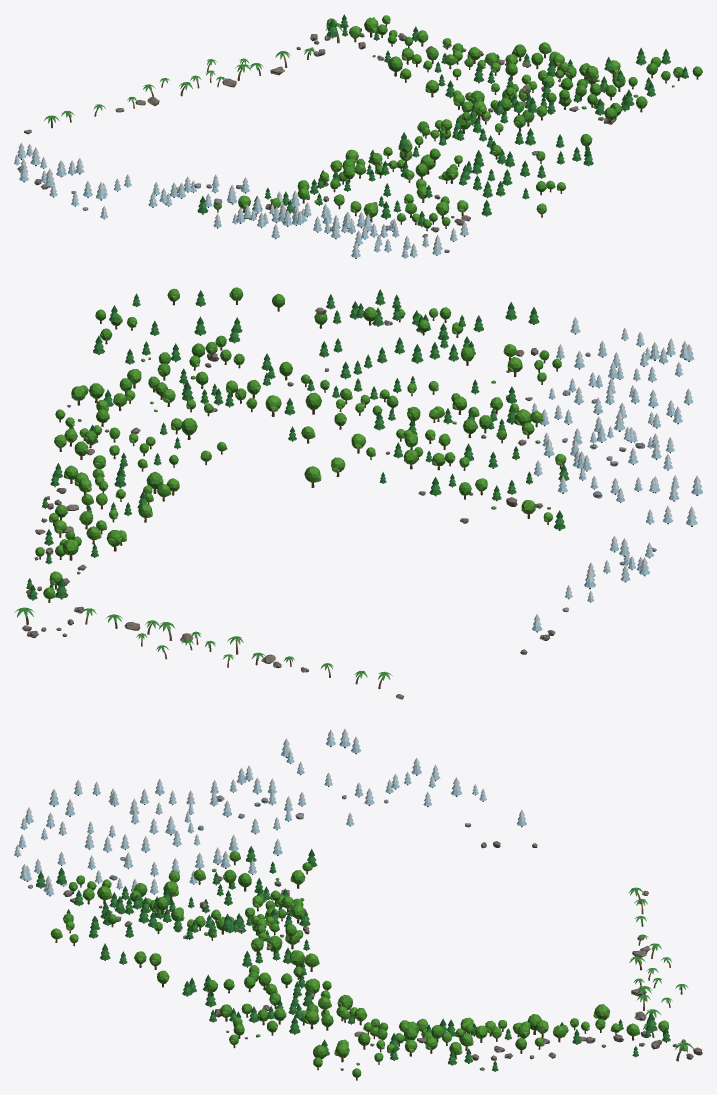
The model's file is Vegetation_Instances.fbx.
3 renders of one model, top to bottom at view 1: azimuth 30°, elevation 25°; view 2: azimuth 150°, elevation 25°; view 3: azimuth 270°, elevation 25°, orthographic. The views are drawn at different scales.
Bounding box in the file's own units: 189715 × 40243 × 180279.
